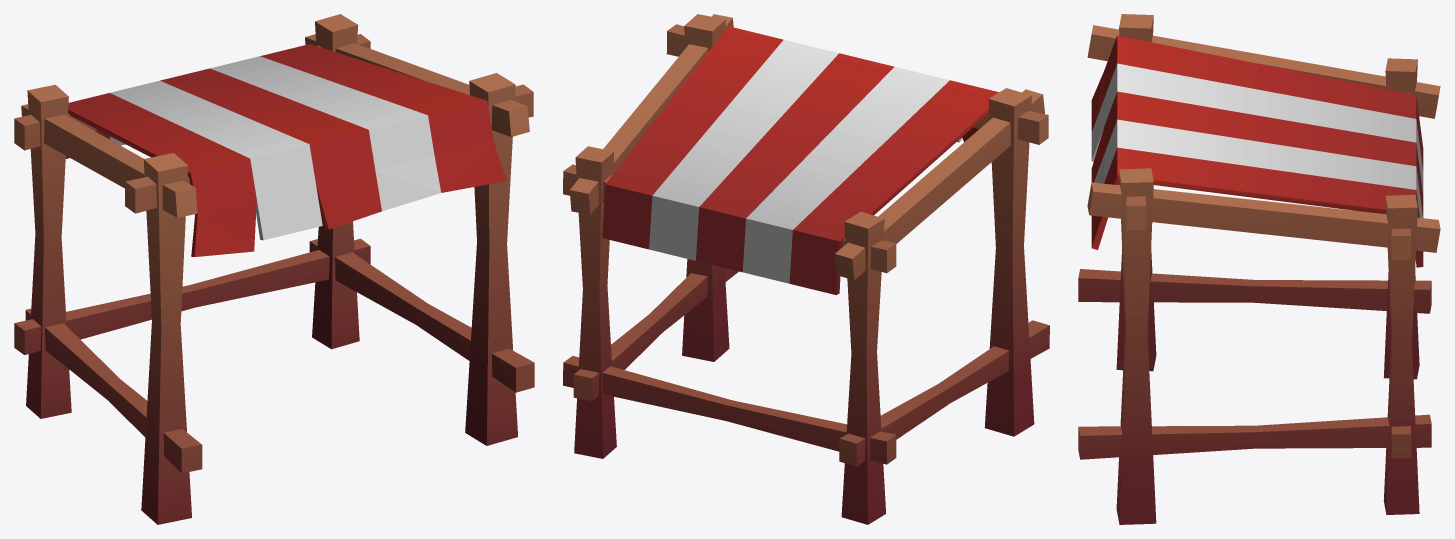
The model's file is tent_1.glb.
3 views of the same model, side by side, from view 1: azimuth 30°, elevation 25°; view 2: azimuth 150°, elevation 25°; view 3: azimuth 270°, elevation 25° (orthographic). The views are drawn at different scales.
Parts seen in each view (by area): view 1: tent_1; view 2: tent_1; view 3: tent_1.
Boxes of the visible parts, x1=… form: tent_1: x1=14, y1=14, x2=534, y2=524; tent_1: x1=563, y1=14, x2=1049, y2=524; tent_1: x1=1078, y1=14, x2=1440, y2=524.
Bounding box in the file's own units: 1.44 × 1.21 × 1.17.
Materials: 1 (1 with a texture image).
